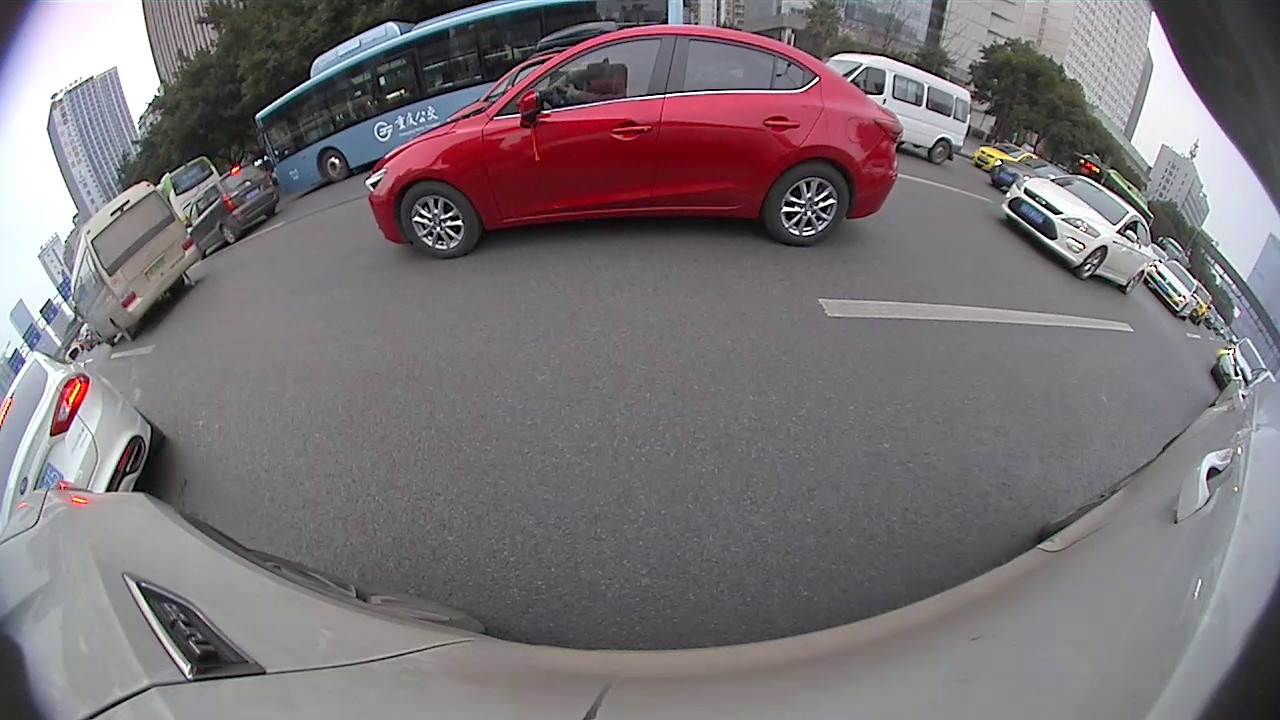bus: (256, 1, 693, 200), (74, 181, 199, 345)
car: (367, 24, 899, 258), (3, 353, 164, 546), (1003, 177, 1148, 295), (826, 53, 968, 158), (194, 168, 284, 260), (1148, 258, 1200, 318)
front: (397, 177, 482, 262), (1076, 246, 1109, 282), (319, 146, 349, 182)
rear: (762, 159, 851, 249), (1121, 268, 1145, 296), (929, 139, 952, 164), (220, 223, 237, 246)
